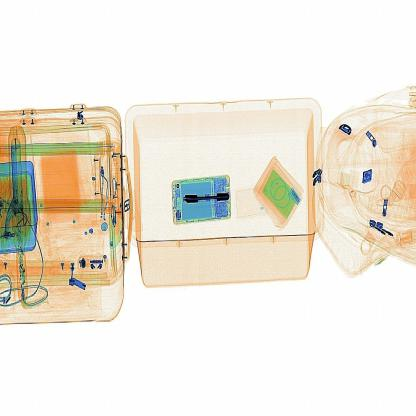knife: (172, 186, 235, 214)
